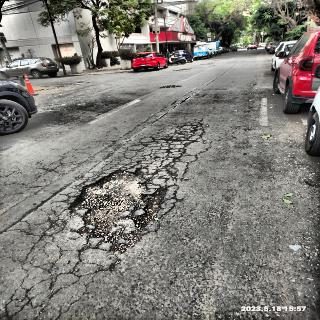alligator-crack: (5, 252, 126, 318), (126, 111, 212, 165), (2, 221, 78, 251), (28, 152, 74, 176), (105, 144, 124, 164)
crack: (20, 192, 54, 215), (199, 71, 228, 93), (169, 95, 192, 110)
pothole: (57, 167, 172, 250), (173, 68, 195, 72)
